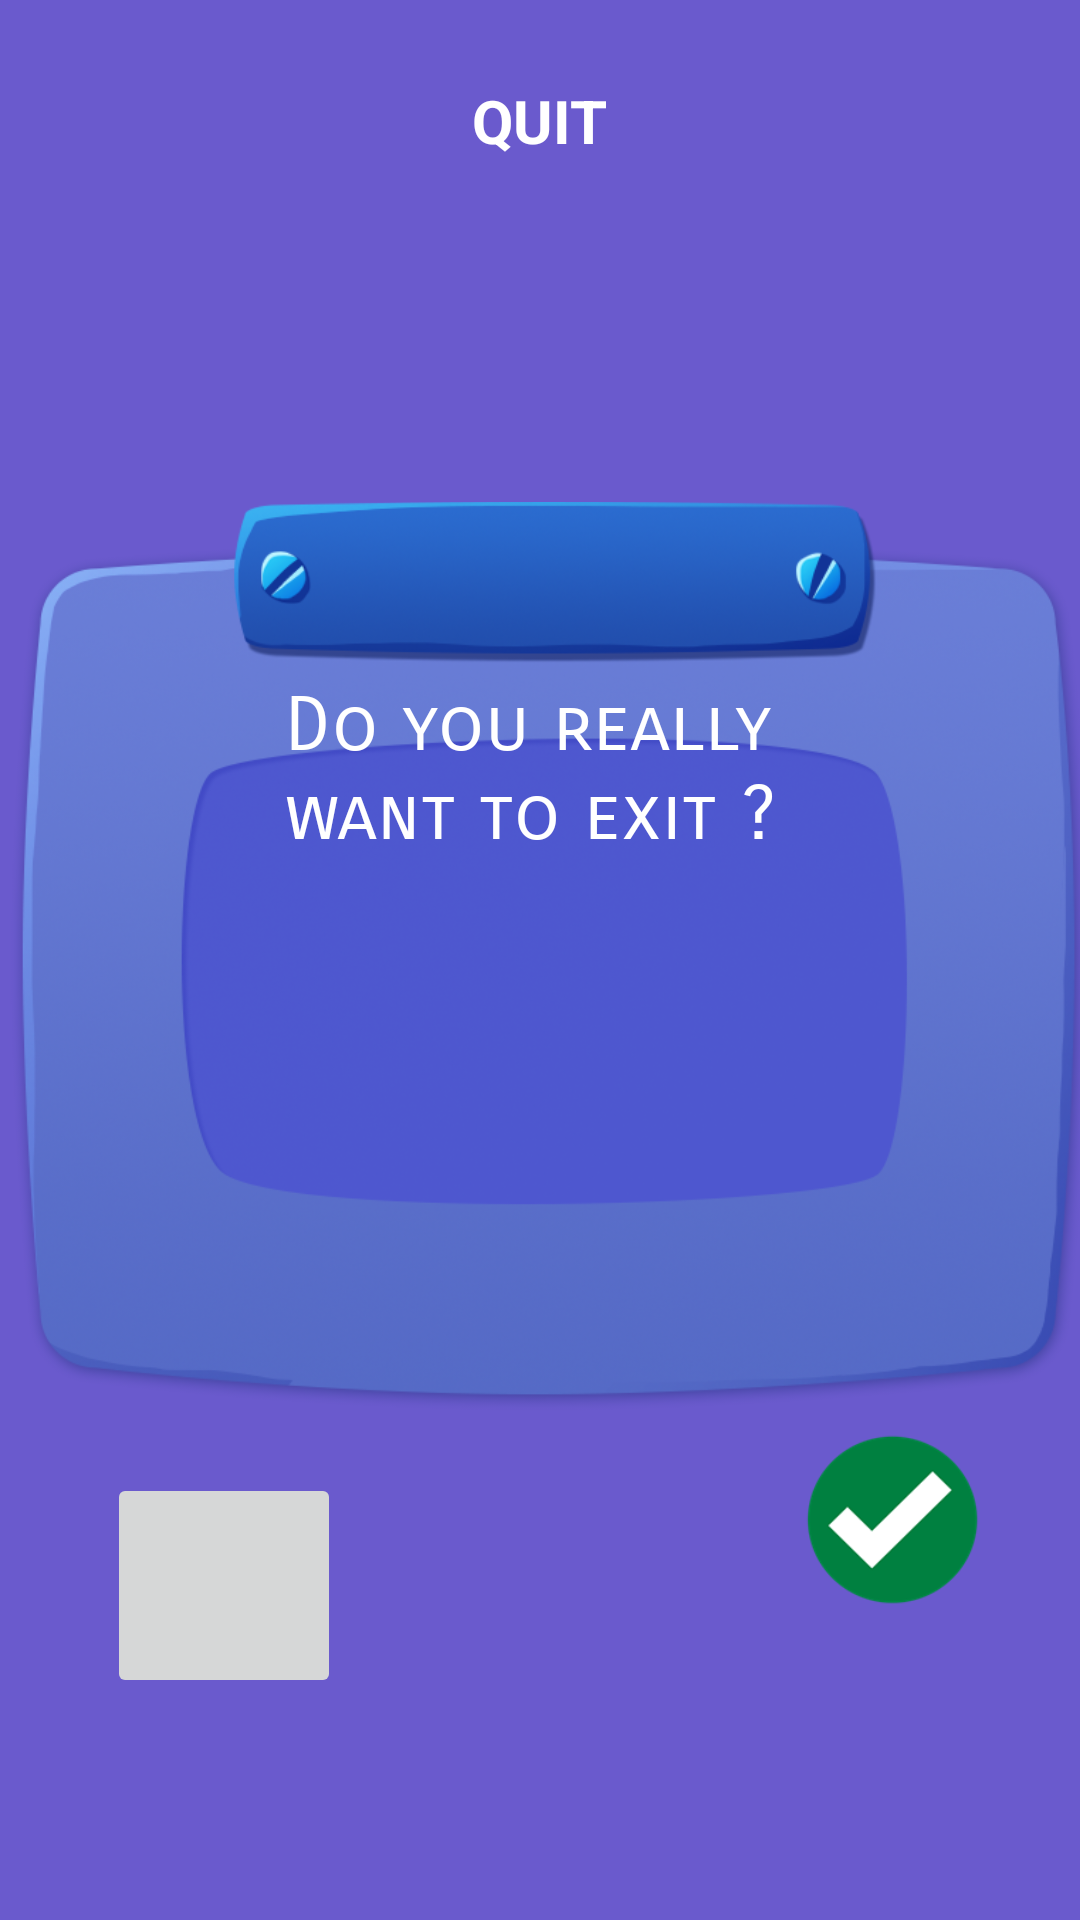

Named icons in this screenshot (1080px x 1920px) and their bounding boxes, (x1, y1, x2, y2):
yes: (807, 1436, 978, 1604)
